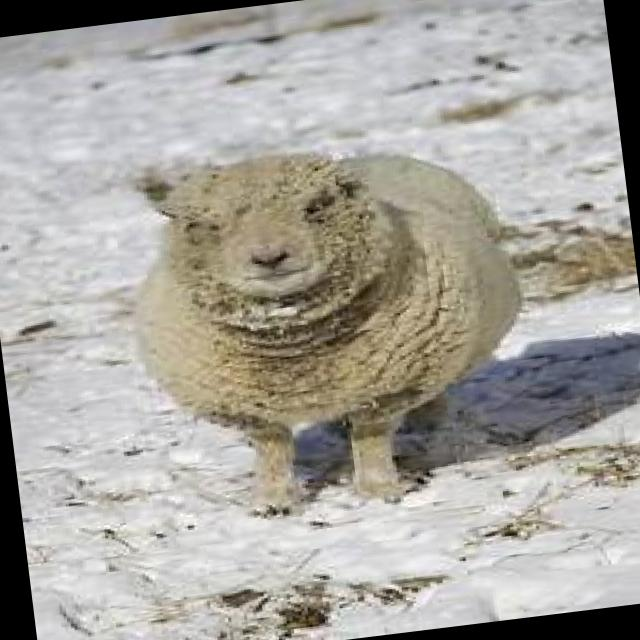sheep: (118, 124, 547, 526)
